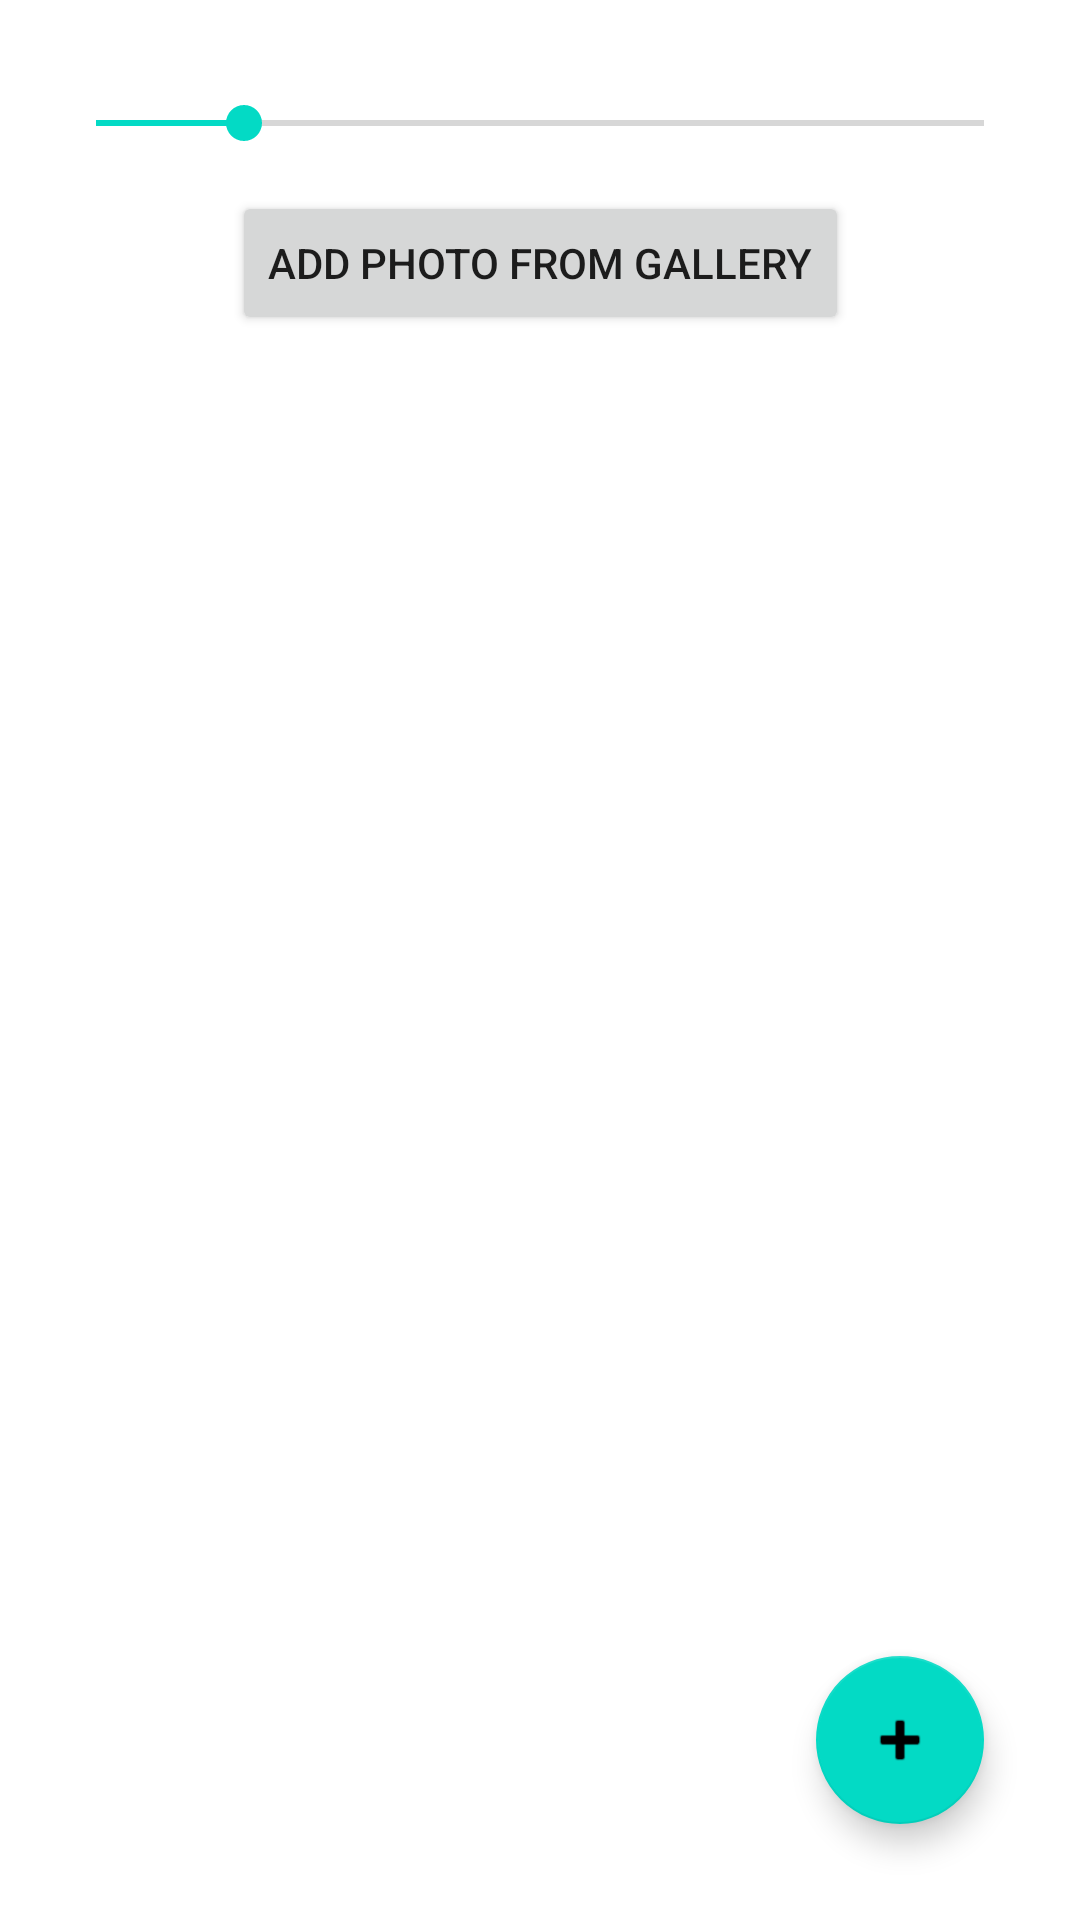

Screen size 1080x1920. Icon name, then its box in pixels as (x1, y1, x2, y2):
Add Photo: (816, 1656, 984, 1824)
